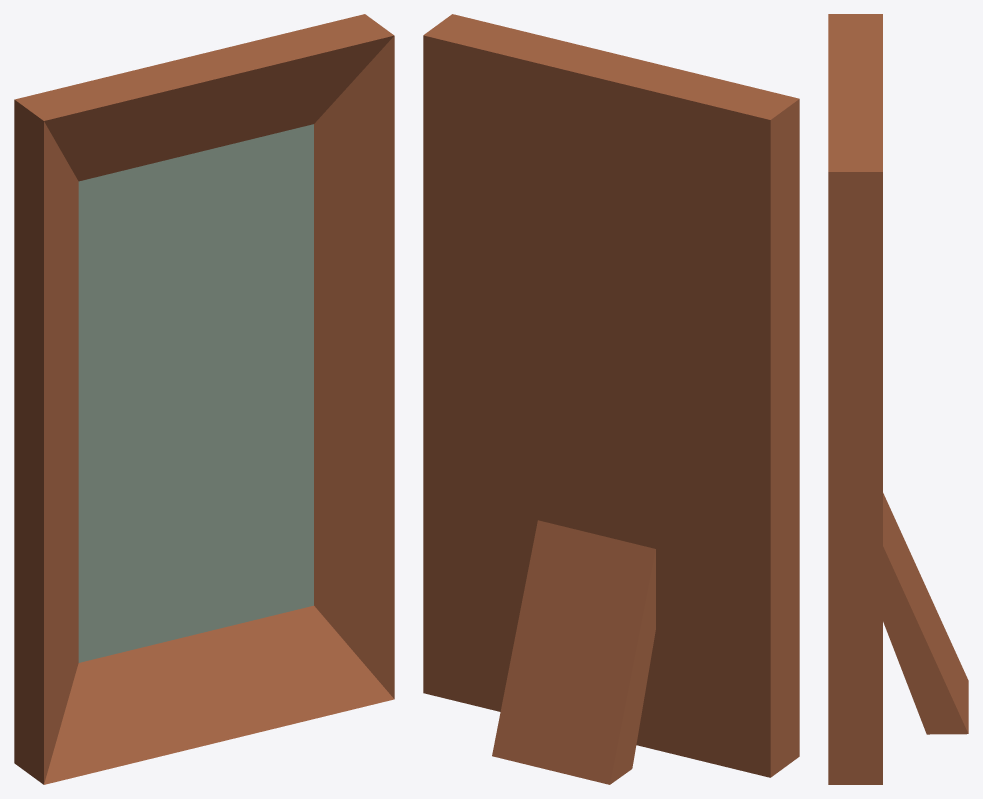
Rendered from mirror.fbx.
3 views of the same model, side by side, from view 1: azimuth 30°, elevation 25°; view 2: azimuth 150°, elevation 25°; view 3: azimuth 270°, elevation 25° (orthographic). The views are drawn at different scales.
Visible parts, largest first — view 1: Mirror; view 2: Mirror; view 3: Mirror.
Boxes of the visible parts, x1=… form: Mirror: x1=14, y1=14, x2=394, y2=784; Mirror: x1=423, y1=14, x2=799, y2=784; Mirror: x1=828, y1=14, x2=968, y2=784.
Bounding box in the file's own units: 389 × 706 × 146.
